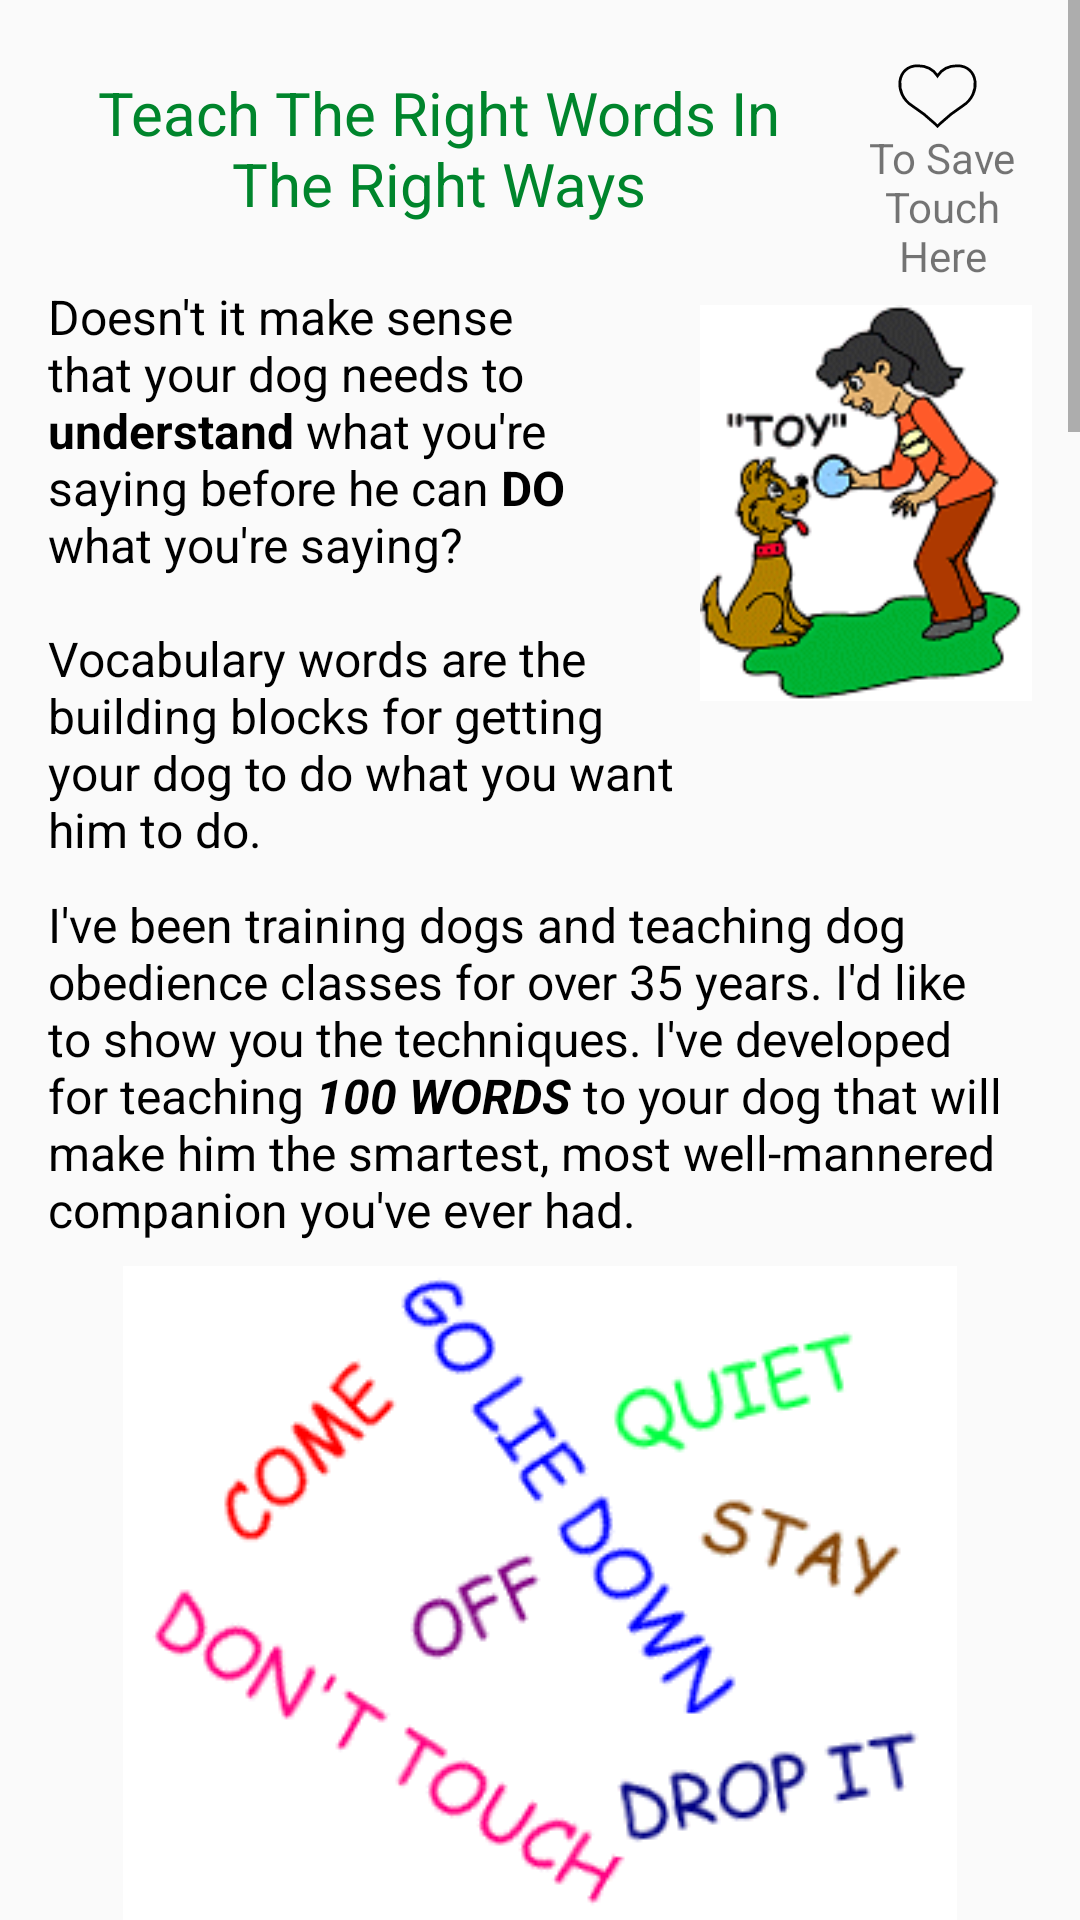

Named icons in this screenshot (1080w x 1920h) and their bounding boxes, [x1, y1, x2, y2]:
heart: [898, 64, 977, 128]
